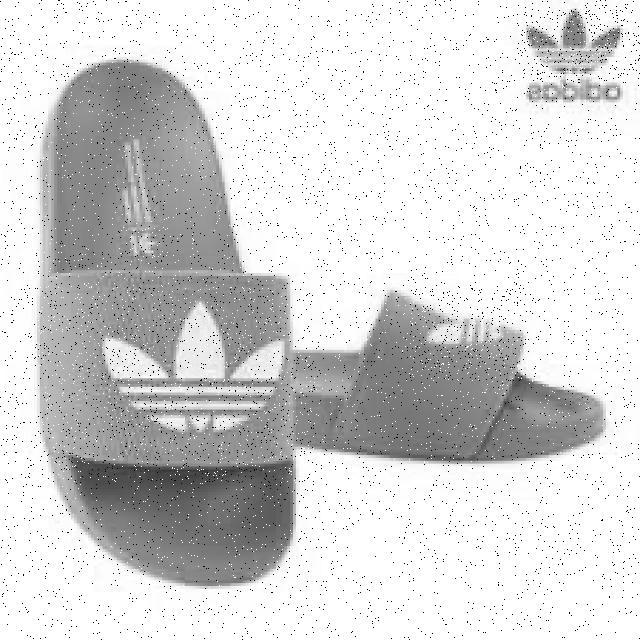Adidas: (25, 287, 315, 483), (410, 285, 526, 381), (517, 5, 640, 83), (122, 225, 168, 271)
